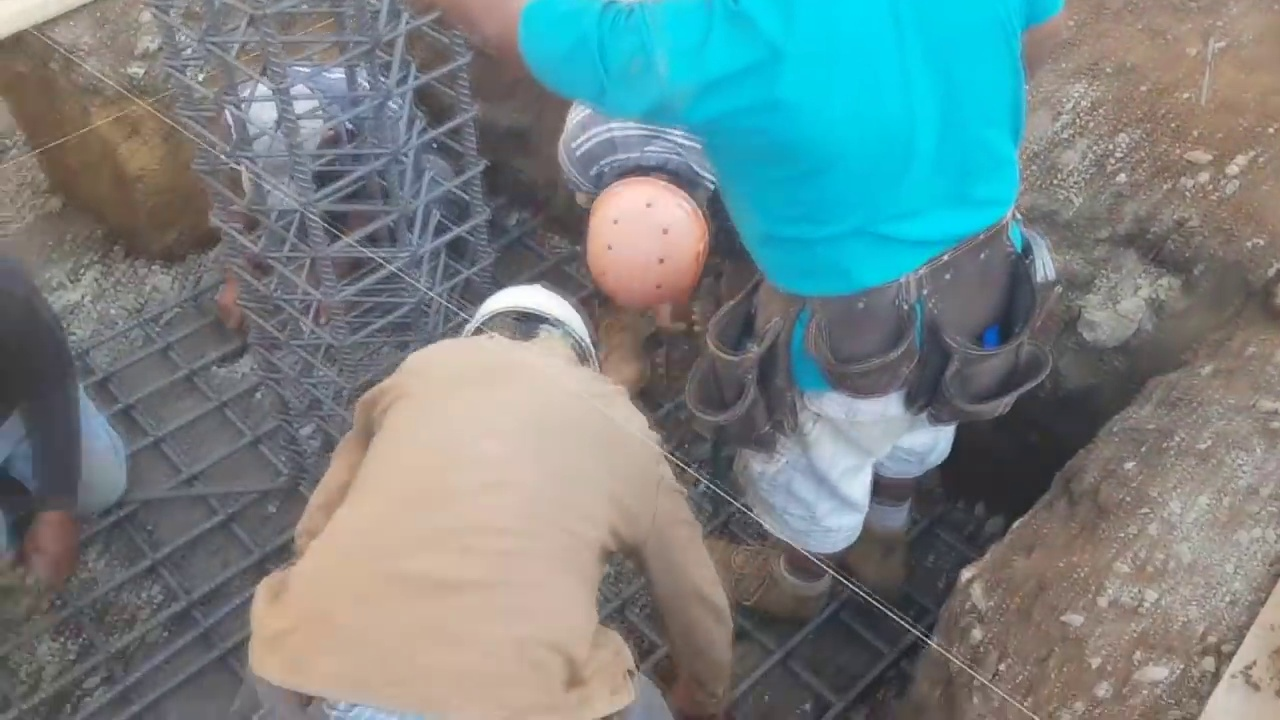helmet: (566, 179, 720, 314), (460, 275, 595, 359)
helmet-on: (565, 156, 723, 304), (462, 278, 594, 370)
person: (430, 0, 1068, 638), (253, 276, 804, 720), (458, 41, 798, 413), (214, 60, 416, 334), (0, 249, 132, 616)
